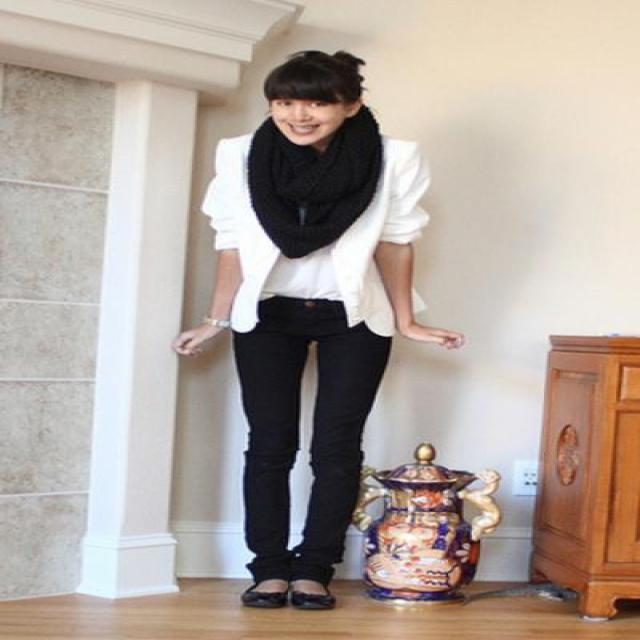jacket: (202, 133, 428, 335)
pants: (232, 296, 390, 586)
shirt: (258, 246, 331, 301)
shoe: (242, 583, 336, 610)
